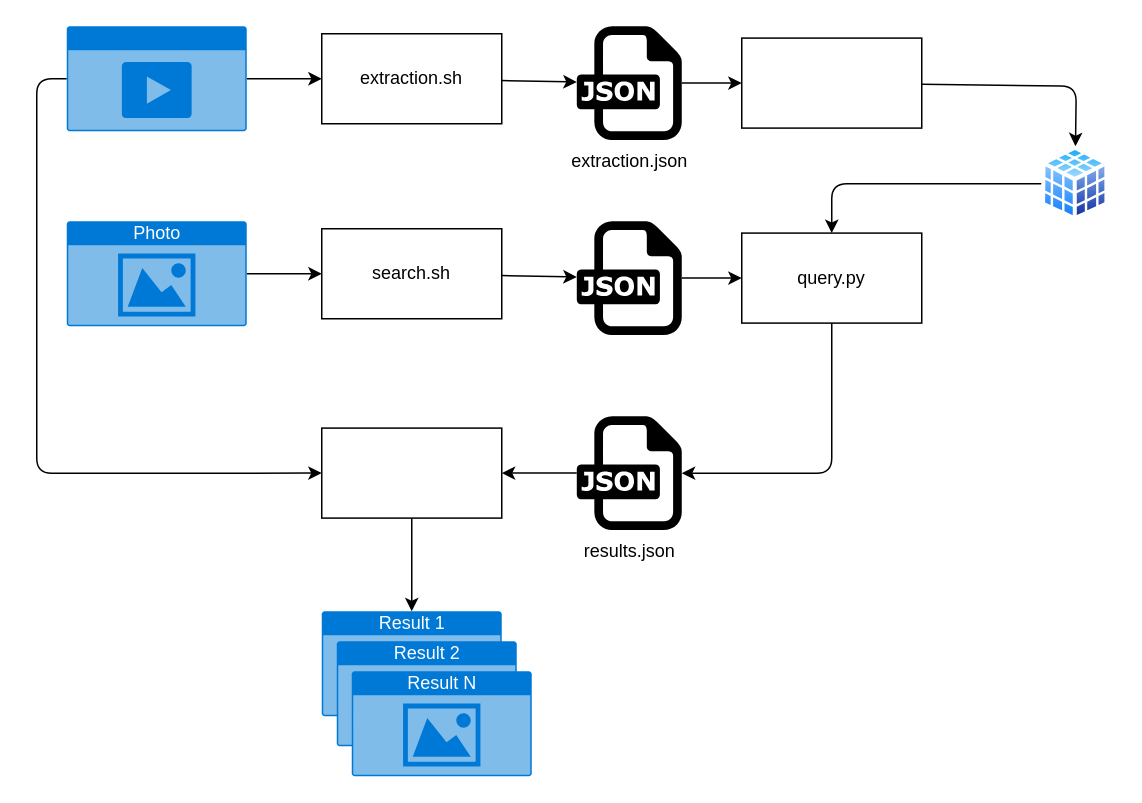
This 1142x803 diagram has some shape labels left out. The centre of each missing label's shape, as x and y in pixels:
insertion.py: (831,82)
Milvus DB: (1074,183)
search.json: (628,277)
seek.py: (411,472)
Video: (156,78)
